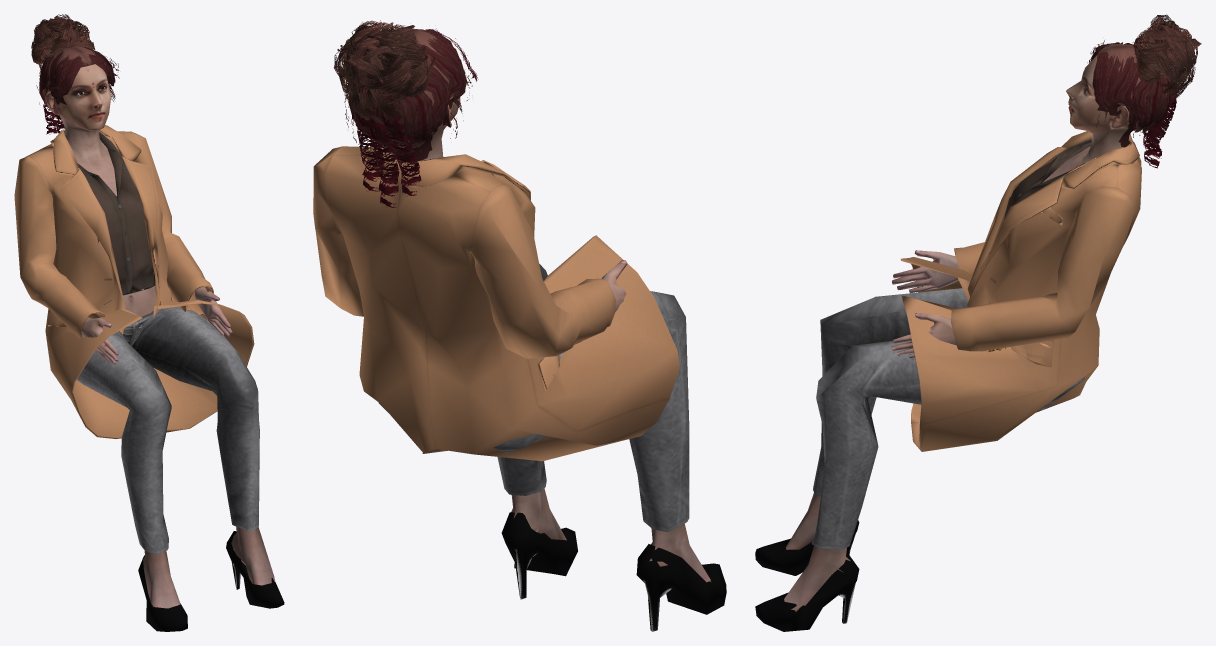
File: woman_coat_sit.glb
The picture shows the model from 3 angles, left to right: view 1: azimuth 30°, elevation 25°; view 2: azimuth 150°, elevation 25°; view 3: azimuth 270°, elevation 25°; orthographic projection. The views are drawn at different scales.
Parts seen in each view (by area): view 1: geometry_0; view 2: geometry_0; view 3: geometry_0.
Part boxes in pixels (x1,y1,x2,y2): geometry_0: (14, 14, 284, 631); geometry_0: (313, 20, 726, 631); geometry_0: (755, 14, 1201, 631).
Bounding box in the file's own units: 0.4841 × 1.22 × 0.8566.
1 material, 1 textured.
